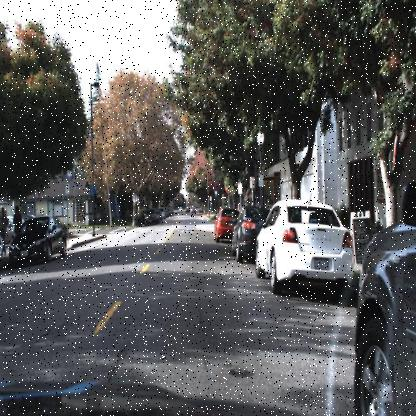car: (354, 178, 416, 415), (252, 192, 363, 298), (7, 212, 70, 270), (228, 199, 275, 266), (212, 203, 241, 245), (143, 206, 159, 228)
